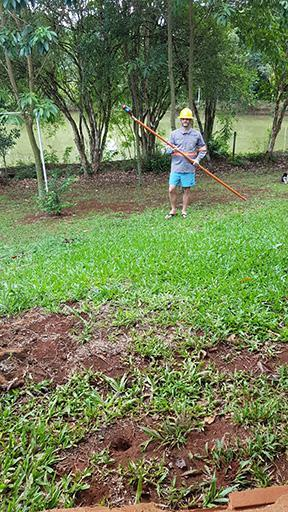helmet: (177, 106, 195, 128)
